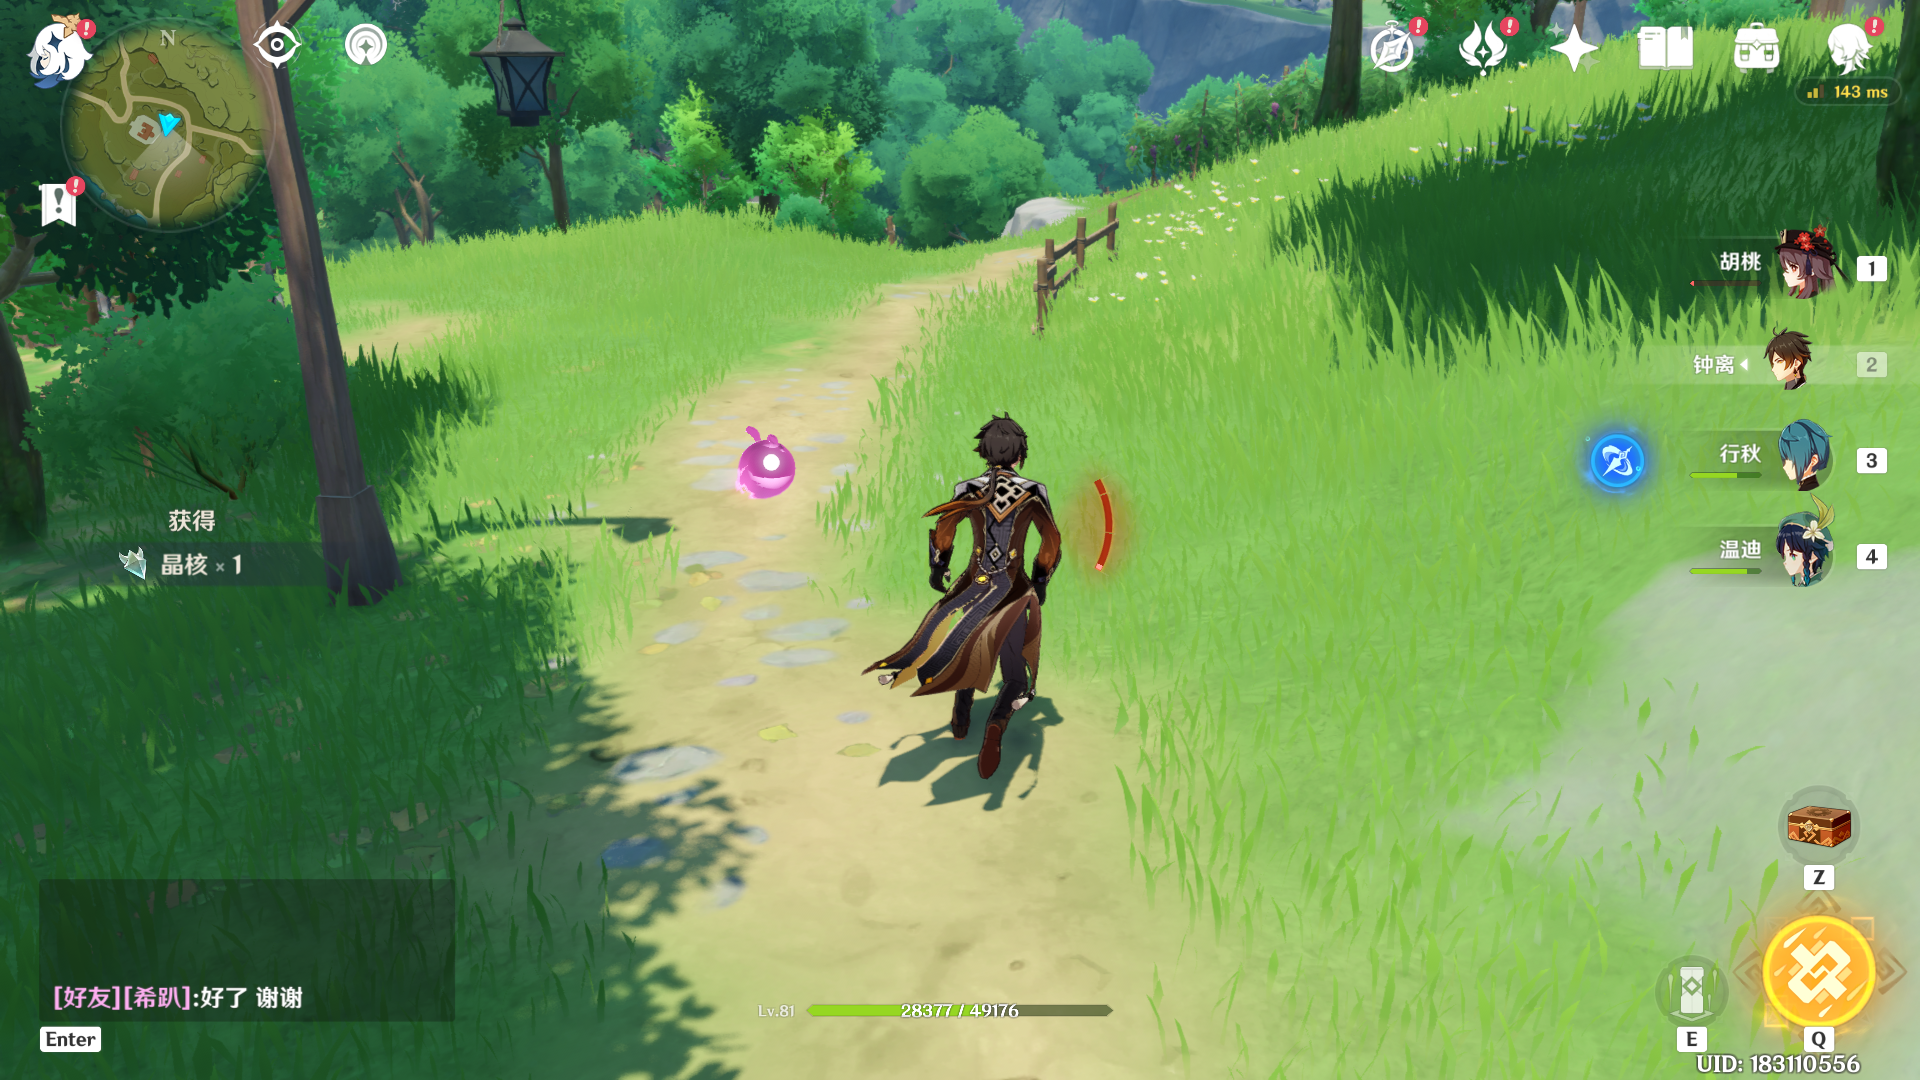character: (866, 396, 1116, 804)
